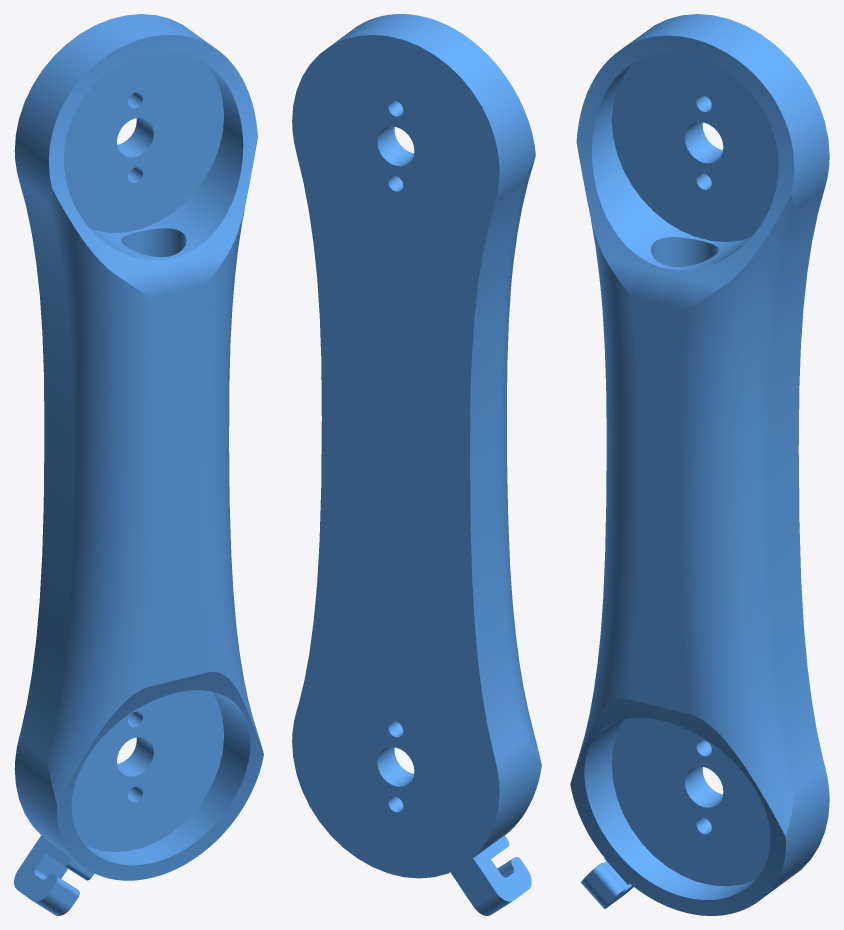
Rendered from arm_1.glb.
The picture shows the model from 3 angles, left to right: view 1: azimuth 30°, elevation 25°; view 2: azimuth 150°, elevation 25°; view 3: azimuth 330°, elevation 25°; orthographic projection. The views are drawn at different scales.
Visible parts, largest first — view 1: Arm 01.SLDPRT; view 2: Arm 01.SLDPRT; view 3: Arm 01.SLDPRT.
Part boxes in pixels (<box>): Arm 01.SLDPRT: <box>14,14,263,915</box>; Arm 01.SLDPRT: <box>292,14,541,915</box>; Arm 01.SLDPRT: <box>570,14,829,915</box>.
Size of the model in its own units: 0.0432 by 0.1667 by 0.021.
